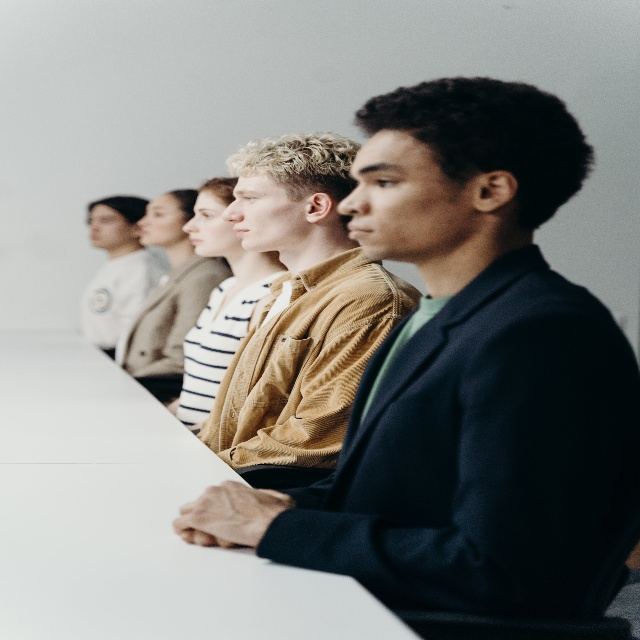Sin_guantes: (172, 479, 288, 549)
